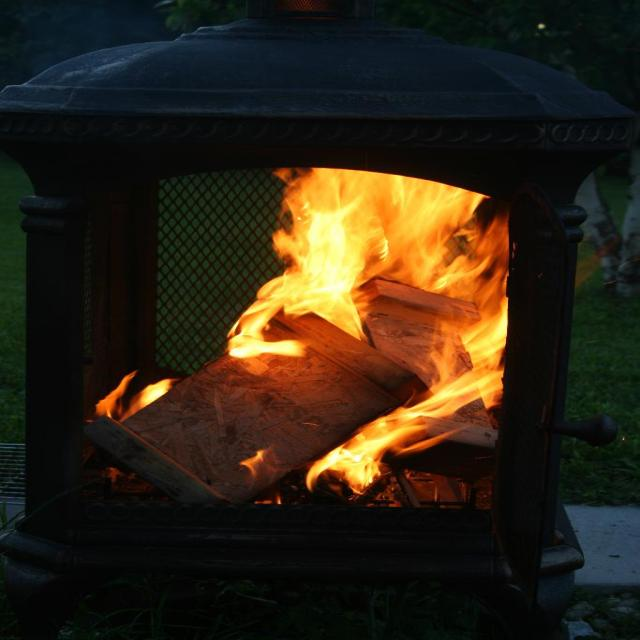fire: (230, 169, 512, 496)
